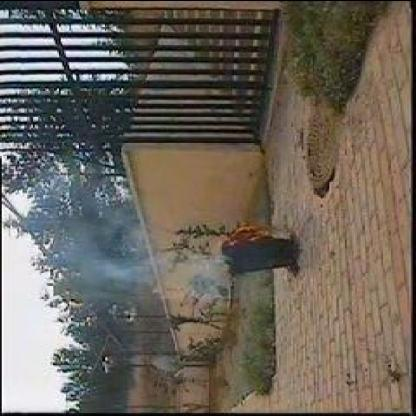-: (62, 244, 224, 298)
foggia-v2-map80-epoch100 - v1 4323: (230, 225, 262, 239)
